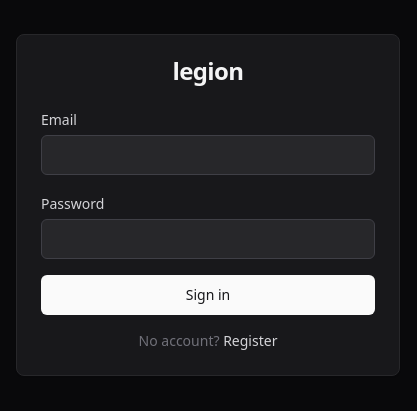
Login – error handling › shows error message on failed login
The width and height of the screenshot is (417, 411).
Type "bad@example.com" into the field labelled "Email".
click(208, 155); type("bad@example.com")  # box [41,135,375,175]
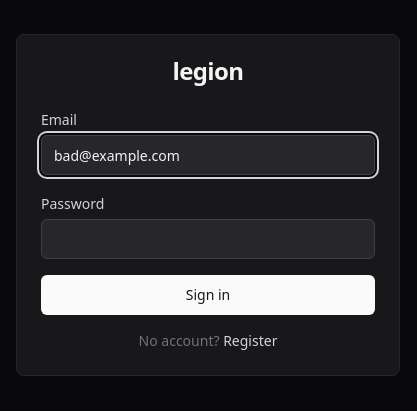
Type "wrongpass" into the password field labelled "Password".
click(208, 239); type("wrongpass")  # box [41,219,375,259]
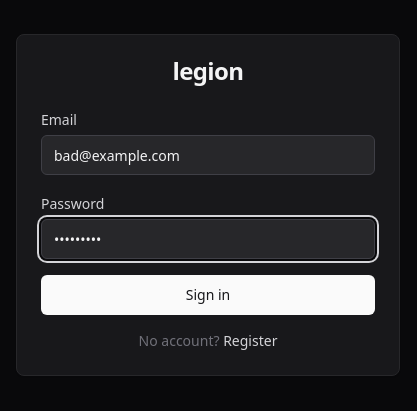
Submit the form "Email Password Sign in No account? Register", box [41,107,375,351]
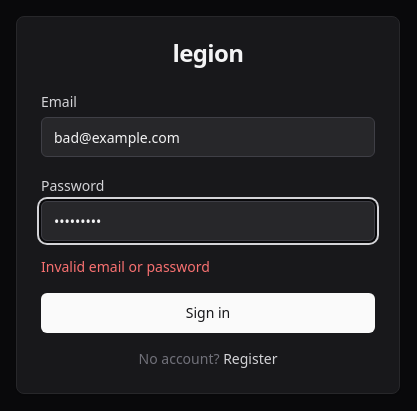
Expected: the text "Invalid email or password" is shown, [41,257,210,276]
